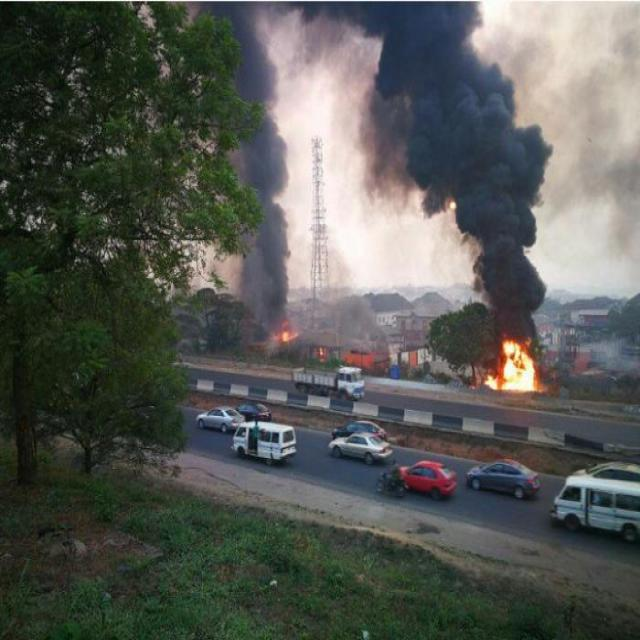Fire: (473, 330, 548, 406), (282, 319, 295, 341)
